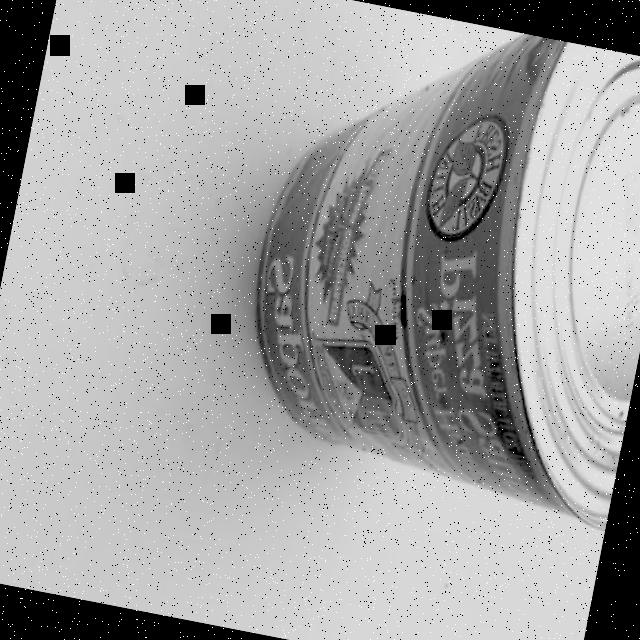can: (215, 0, 640, 536)
